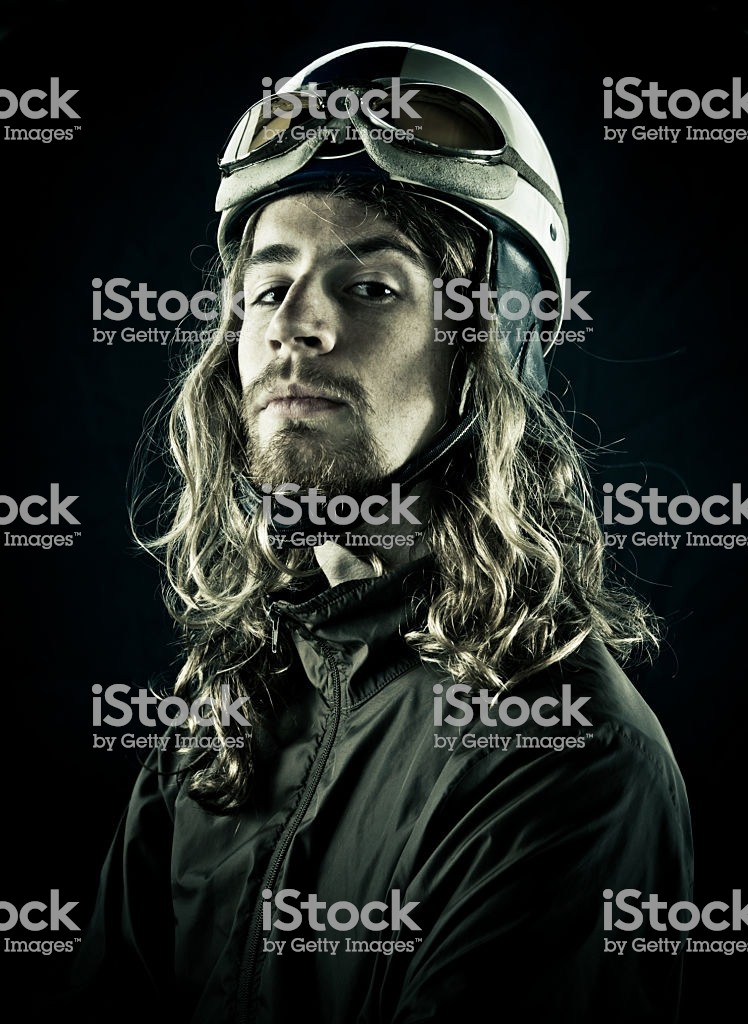helmet: (194, 37, 576, 262)
